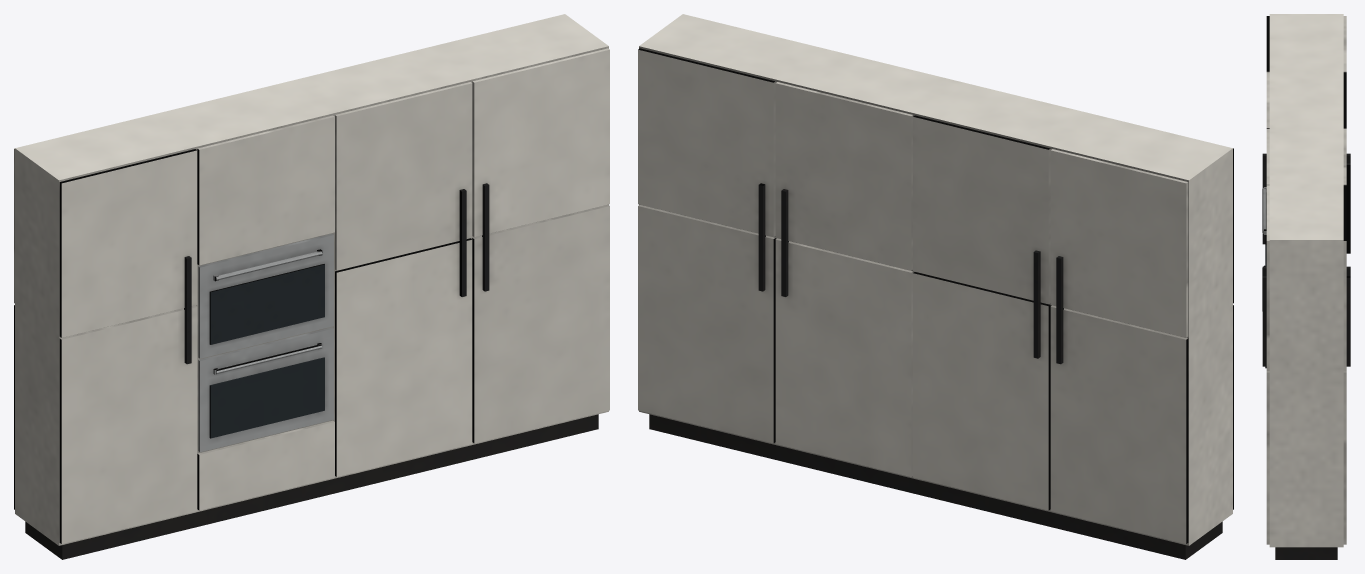
File: H_OvenWall.fbx
3 views of the same model, side by side, from view 1: azimuth 30°, elevation 25°; view 2: azimuth 150°, elevation 25°; view 3: azimuth 270°, elevation 25° (orthographic). The views are drawn at different scales.
Visible parts, largest first — view 1: H_OvenWall; view 2: H_OvenWall; view 3: H_OvenWall.
Boxes of the visible parts, bbox=[...] form: H_OvenWall: bbox=[14, 14, 609, 559]; H_OvenWall: bbox=[638, 14, 1233, 559]; H_OvenWall: bbox=[1262, 14, 1350, 559].
Size of the model in its own units: 1200 by 800 by 199.
1 material, 1 textured.
